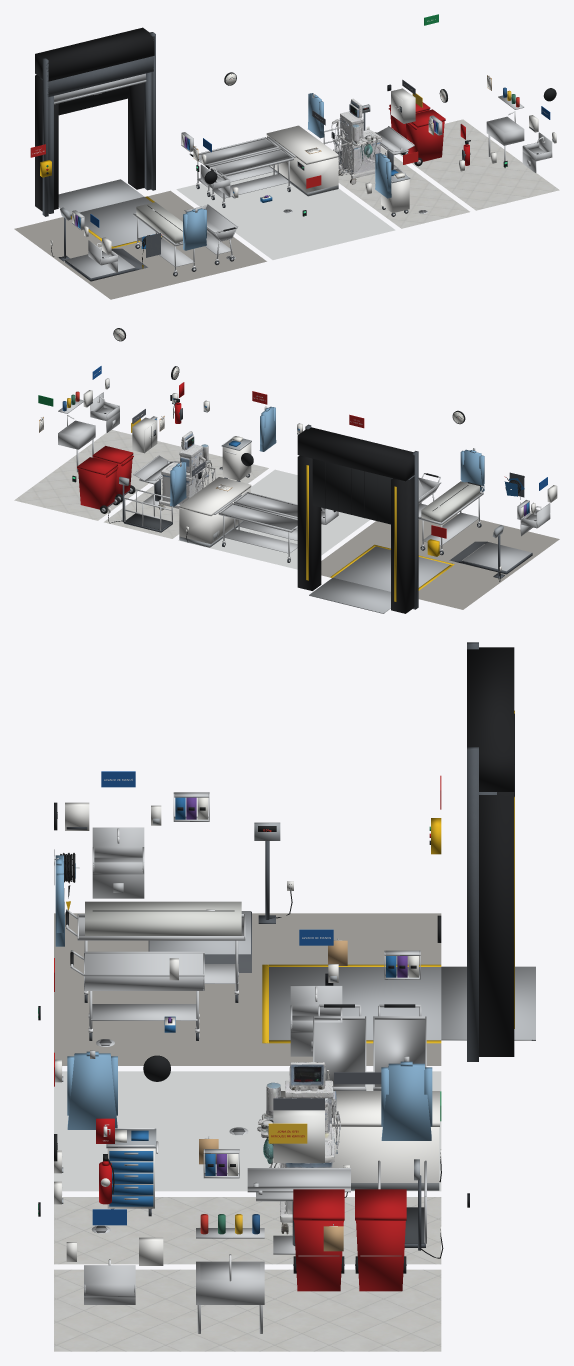
Rendered from 03_n1_cadena_de_modelos_biologicos.glb.
The picture shows the model from 3 angles, top to bottom: view 1: azimuth 30°, elevation 25°; view 2: azimuth 150°, elevation 25°; view 3: azimuth 270°, elevation 25°; orthographic projection. The views are drawn at different scales.
Parts seen in each view (by area): view 1: sello_muelle, piso · Preparación de cadáveres · auxiliar forense · congela, piso · Andén de recepción de modelos, piso · RPBI y residuos biológicos, cortina_enrollable, rampa_niveladora, camilla_modelos (×2), piso · Recepción e inducción anestésica de cerdos, A_v19_maquina_anestesia, bata_colgada (×3), lavabo_acero (×2), congelador_cuerpo (+12 smaller); view 2: sello_muelle, piso · Andén de recepción de modelos, rampa_niveladora, piso · RPBI y residuos biológicos, piso · Preparación de cadáveres · auxiliar forense · congela, camilla_modelos (×2), contenedor_rpbi (×2), bata_colgada (×3), piso · Recepción e inducción anestésica de cerdos, bascula_plataforma, A_v19_maquina_anestesia, lavabo_acero (×2) (+11 smaller); view 3: piso · RPBI y residuos biológicos, piso · Andén de recepción de modelos, sello_muelle, piso · Preparación de cadáveres · auxiliar forense · congela, piso · Recepción e inducción anestésica de cerdos, rampa_niveladora, contenedor_rpbi (×2), bata_colgada (×3), lavabo_acero (×2), carro_canal_cerdo, camilla_modelos (×2), bolsa (+13 smaller).
Boxes of the visible parts, box(x1,y1,x2,y2) form: sello_muelle: box(35, 27, 155, 216); piso · Preparación de cadáveres · auxiliar forense · congela: box(176, 172, 395, 259); piso · Andén de recepción de modelos: box(14, 190, 266, 299); piso · RPBI y residuos biológicos: box(399, 119, 559, 210); cortina_enrollable: box(40, 56, 153, 213); rampa_niveladora: box(40, 160, 161, 248); camilla_modelos (×2): box(189, 137, 293, 207); piso · Recepción e inducción anestésica de cerdos: box(334, 146, 469, 228); A_v19_maquina_anestesia: box(331, 98, 381, 184); bata_colgada (×3): box(183, 93, 391, 250); lavabo_acero (×2): box(84, 115, 556, 273); congelador_cuerpo: box(267, 136, 338, 196); sello_muelle: box(297, 424, 418, 613); piso · Andén de recepción de modelos: box(321, 514, 559, 609); rampa_niveladora: box(309, 539, 454, 613); piso · RPBI y residuos biológicos: box(14, 430, 182, 520); piso · Preparación de cadáveres · auxiliar forense · congela: box(178, 469, 370, 569); camilla_modelos (×2): box(218, 492, 323, 562); contenedor_rpbi (×2): box(77, 446, 135, 513); bata_colgada (×3): box(170, 406, 484, 506); piso · Recepción e inducción anestésica de cerdos: box(104, 453, 268, 538); bascula_plataforma: box(449, 525, 532, 578); A_v19_maquina_anestesia: box(158, 431, 215, 510); lavabo_acero (×2): box(83, 378, 557, 536); piso · RPBI y residuos biológicos: box(54, 1269, 441, 1351); piso · Andén de recepción de modelos: box(54, 913, 441, 1065); sello_muelle: box(467, 642, 514, 1061); piso · Preparación de cadáveres · auxiliar forense · congela: box(54, 1071, 441, 1191); piso · Recepción e inducción anestésica de cerdos: box(54, 1197, 441, 1264); rampa_niveladora: box(262, 818, 535, 1043); contenedor_rpbi (×2): box(293, 1189, 406, 1291); bata_colgada (×3): box(54, 855, 432, 1140); lavabo_acero (×2): box(65, 802, 163, 1304); carro_canal_cerdo: box(70, 950, 204, 1040); camilla_modelos (×2): box(313, 1004, 426, 1090); bolsa: box(85, 901, 241, 935).
Size of the model in its own units: 12.06 by 4 by 5.78.
Materials: 47 (3 with a texture image).
